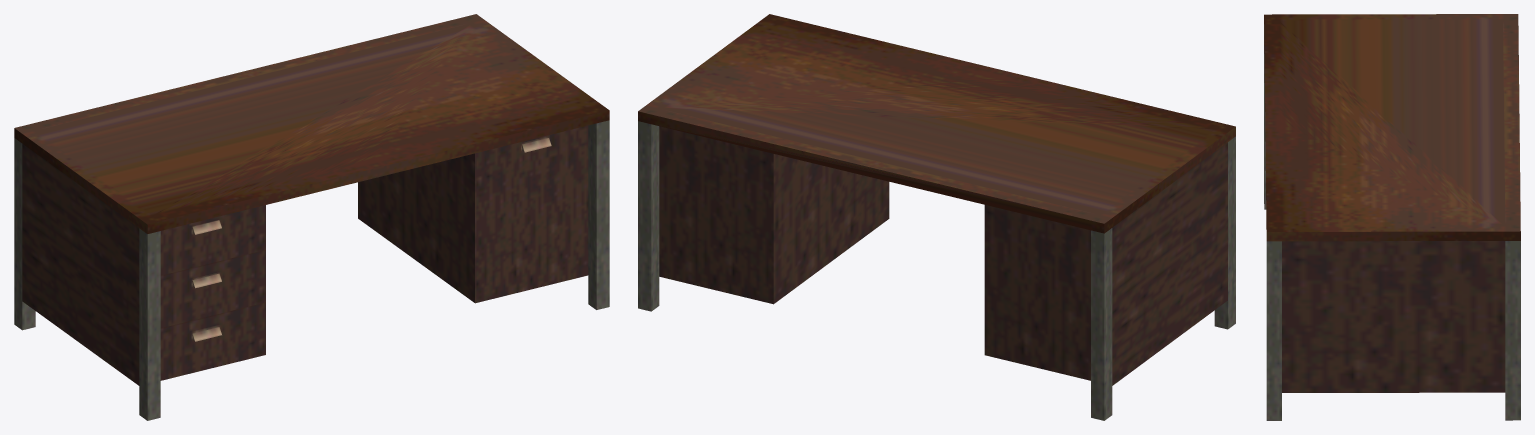
The model's file is desk2_alt.obj.
3 renders of one model, left to right at view 1: azimuth 30°, elevation 25°; view 2: azimuth 150°, elevation 25°; view 3: azimuth 270°, elevation 25°, orthographic. The views are drawn at different scales.
Visible parts, largest first — view 1: desk2_alt; view 2: desk2_alt; view 3: desk2_alt.
Part boxes in pixels (x1=…): desk2_alt: x1=14, y1=14, x2=609, y2=420; desk2_alt: x1=638, y1=14, x2=1235, y2=420; desk2_alt: x1=1264, y1=14, x2=1520, y2=420.
Size of the model in its own units: 2.21 by 0.8911 by 1.1.
